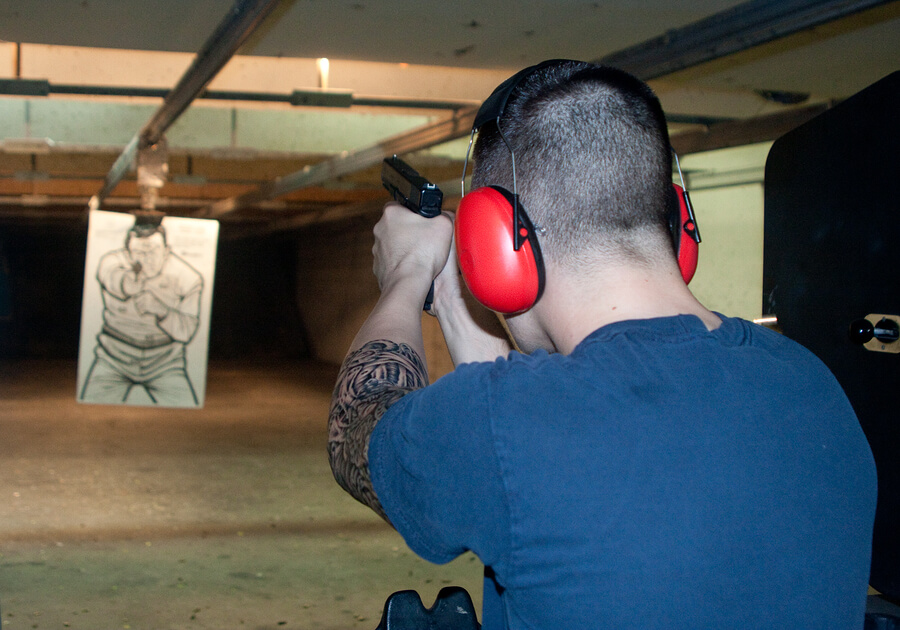Gun: (384, 156, 459, 244)
